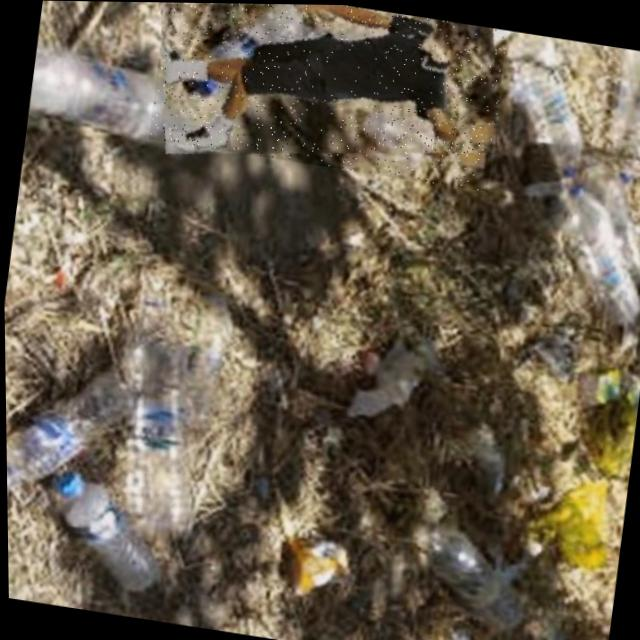Person in Rubble: (146, 2, 508, 190)
